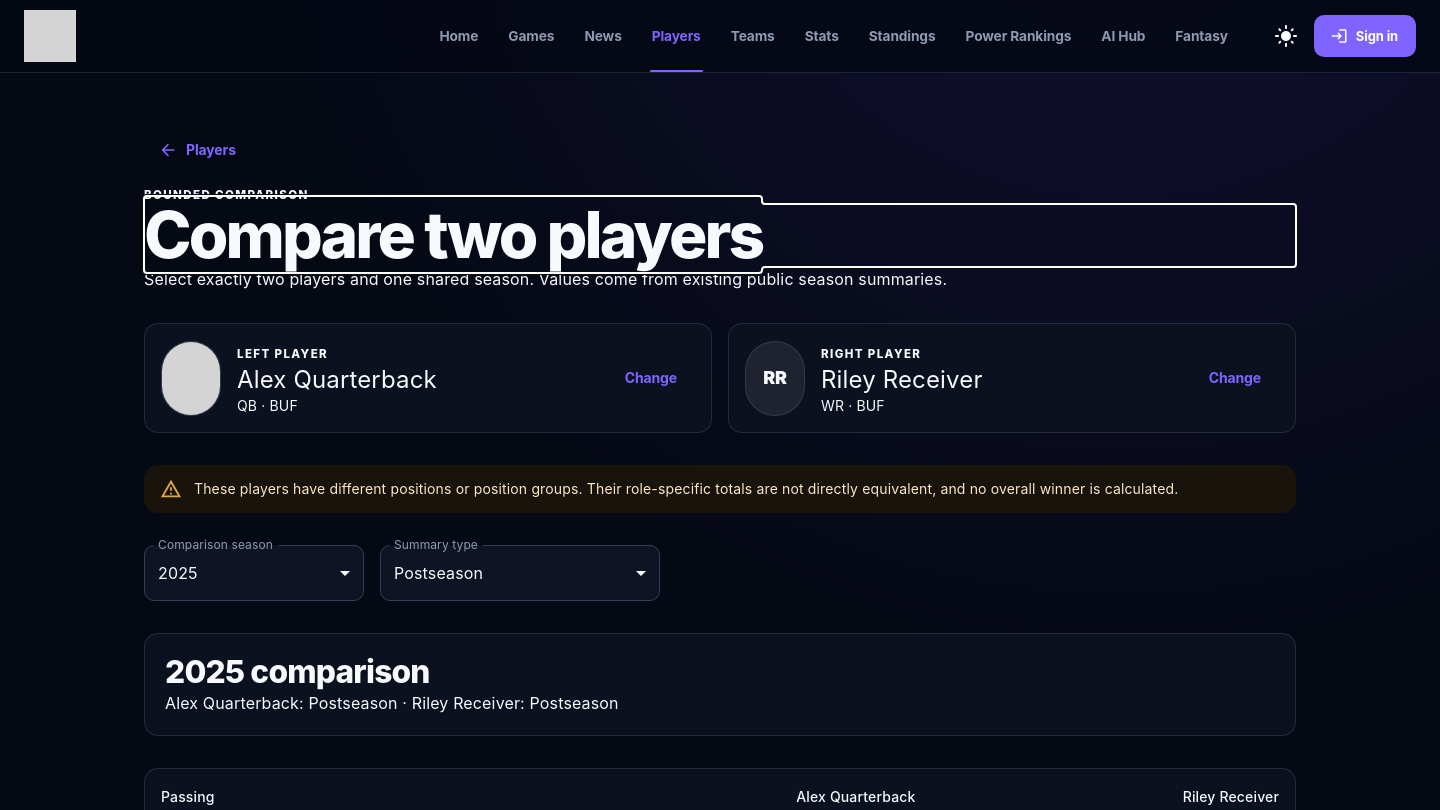
Test case: public player pages › resets and revalidates the type when the season changes
Expected: the heading "2025 comparison" is shown, x1=165 y1=652 x2=430 y2=691
Click the dropdown named "Comparison season" at (178, 572), box x1=158 y1=562 x2=198 y2=582
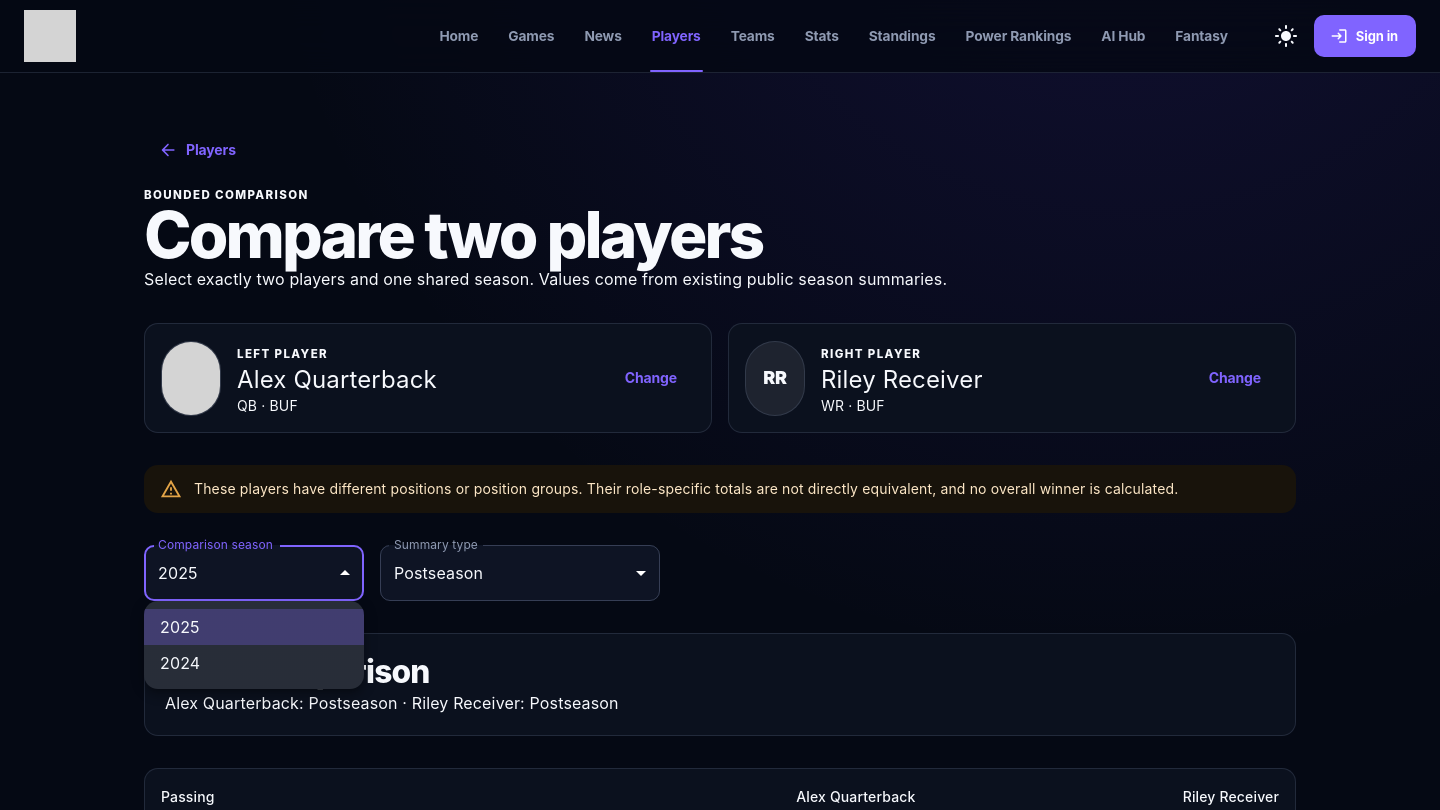
Click the option "2024" at (180, 663), box x1=160 y1=653 x2=200 y2=673
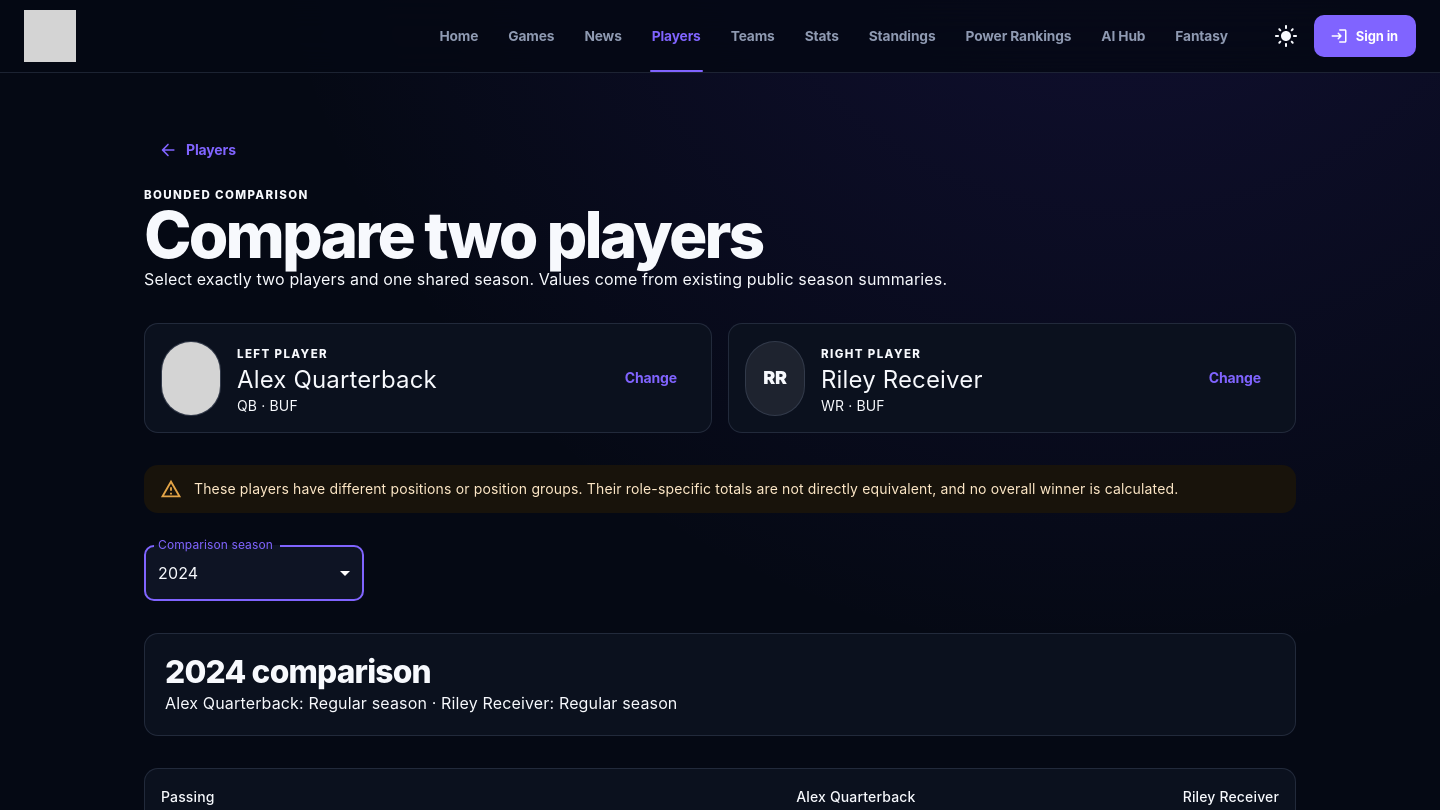
Expected: the heading "2024 comparison" is shown, x1=165 y1=652 x2=431 y2=691
